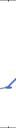line: (0, 80, 16, 92)
